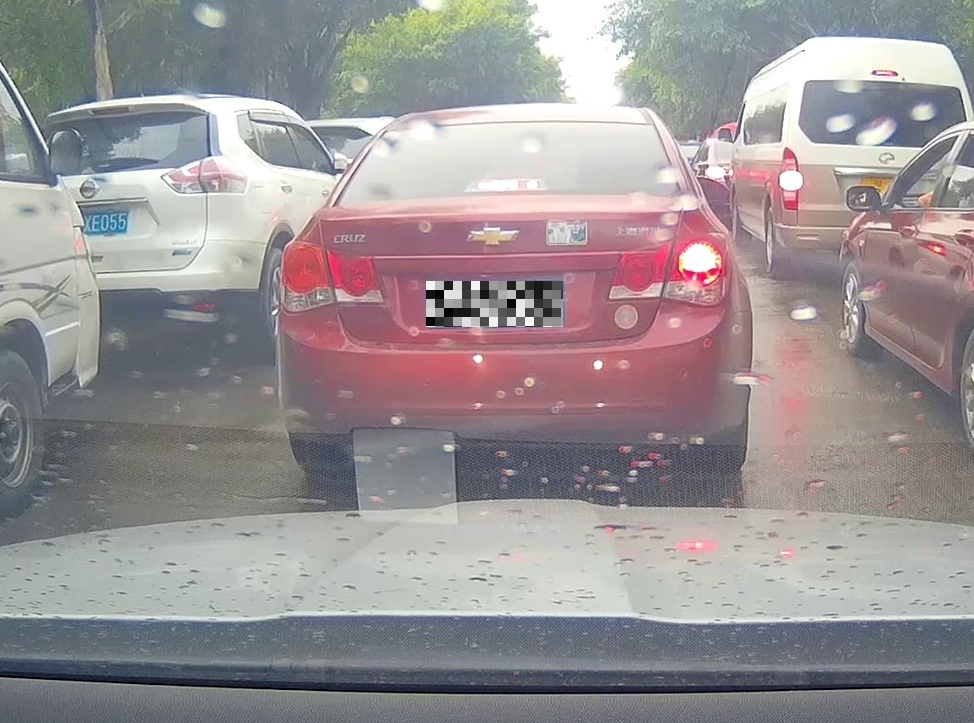L_light: (280, 241, 387, 314)
R_light: (607, 231, 732, 307)
T_light: (472, 178, 543, 191)
day-right: (276, 103, 753, 473)
plate_1: (426, 281, 563, 327)
